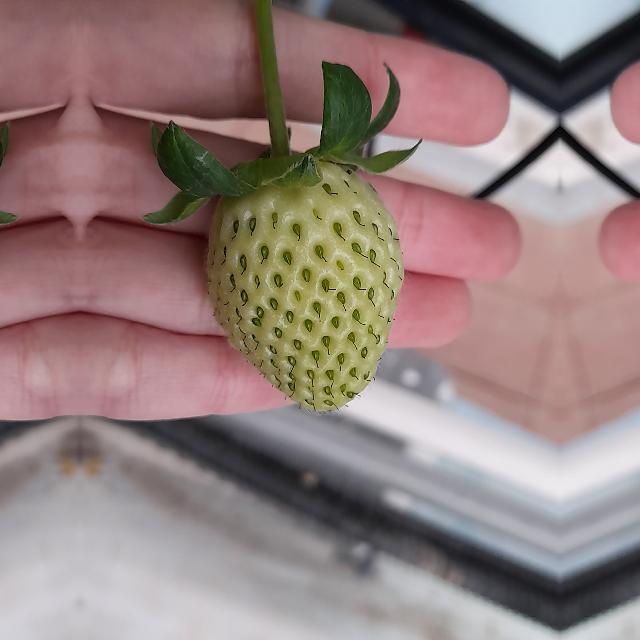Health_25: (204, 160, 403, 412)
